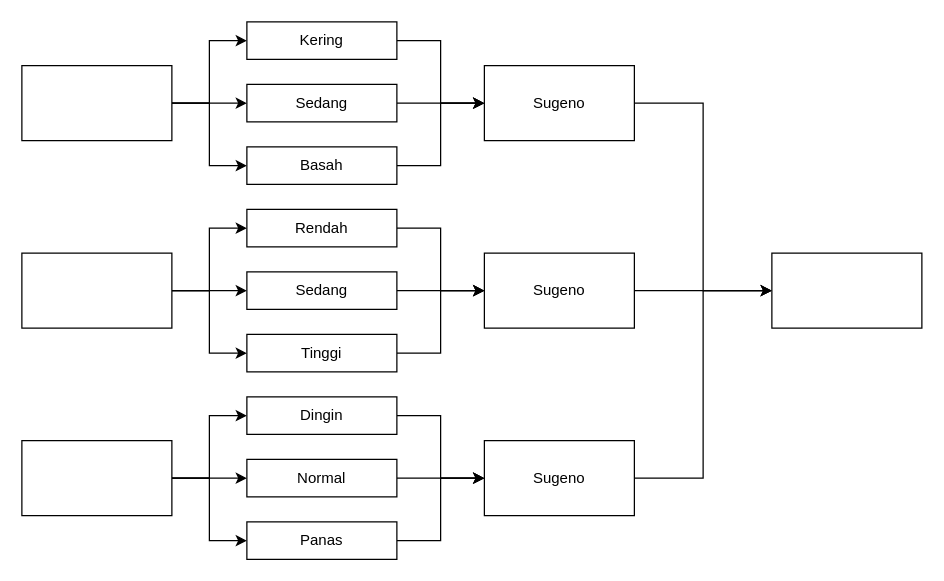
This 944x581 diagram has some shape labels left out. The box of each missing label's shape, as (x1, y1, x2, y2) in pixels:
Kelembaban: (21, 64, 172, 141)
LSTM: (771, 252, 922, 328)
Suhu: (21, 439, 172, 516)
Temperatur: (21, 252, 172, 328)
